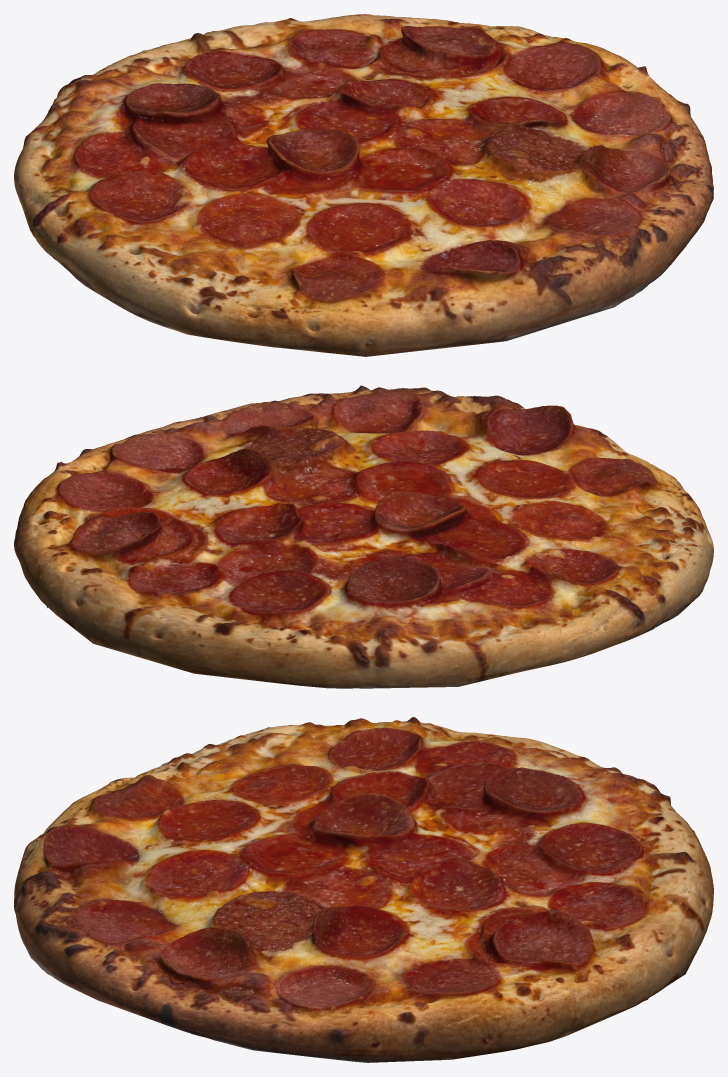
File: pepperoni-pizza.glb
3 views of the same model, one above another, from view 1: azimuth 30°, elevation 25°; view 2: azimuth 150°, elevation 25°; view 3: azimuth 270°, elevation 25° (orthographic). The views are drawn at different scales.
Size of the model in its own units: 0.2936 by 0.0369 by 0.284.
1 material, 1 textured.
